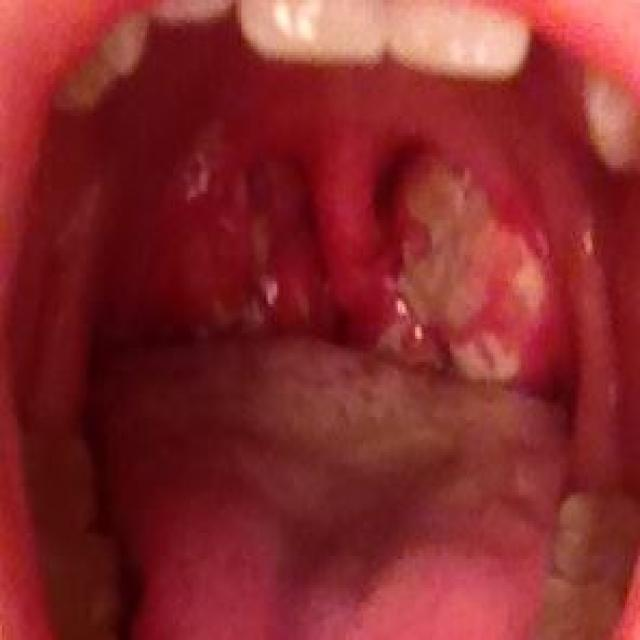pharyngitis: (386, 142, 559, 404), (156, 134, 290, 336)
